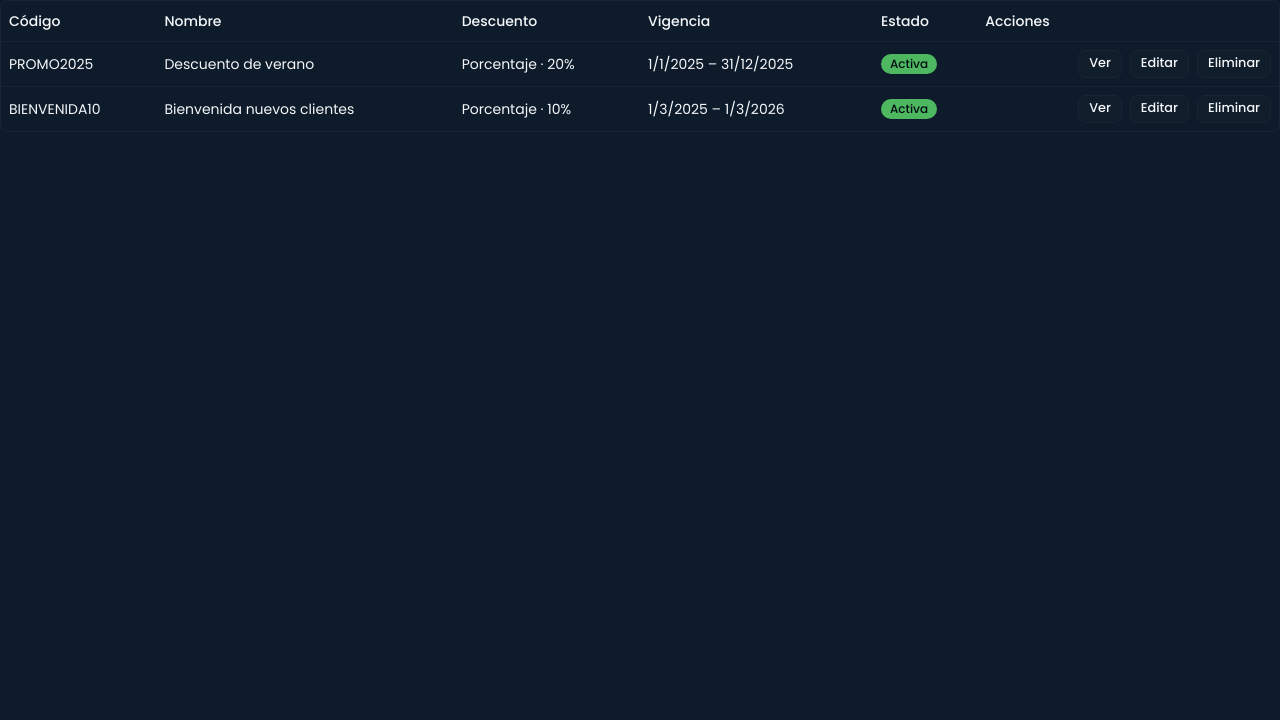
Test: PromotionsTable › cierra el diálogo de confirmación al desactivar una promoción
The image size is (1280, 720).
Check: the text "PROMO2025" is shown, box [1, 41, 156, 86]
Check: the row that starts with "PROMO2025" is shown, box [1, 41, 1279, 86]
Step 1. Click the button "Eliminar" in the row of "PROMO2025" → (1234,64), box [1197, 50, 1271, 78]
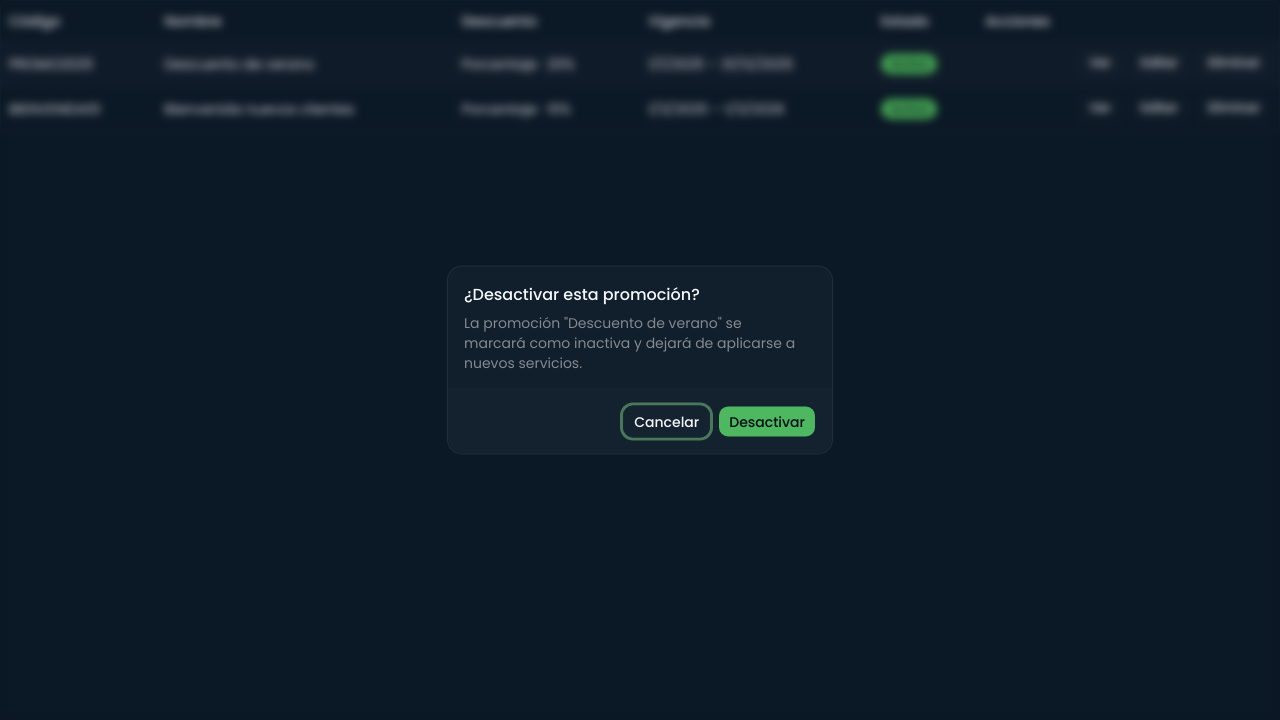
Check: the heading "¿Desactivar esta promoción?" is shown, box [464, 282, 700, 306]
Step 2. Click the button "Desactivar" → (767,422), box [718, 406, 816, 438]
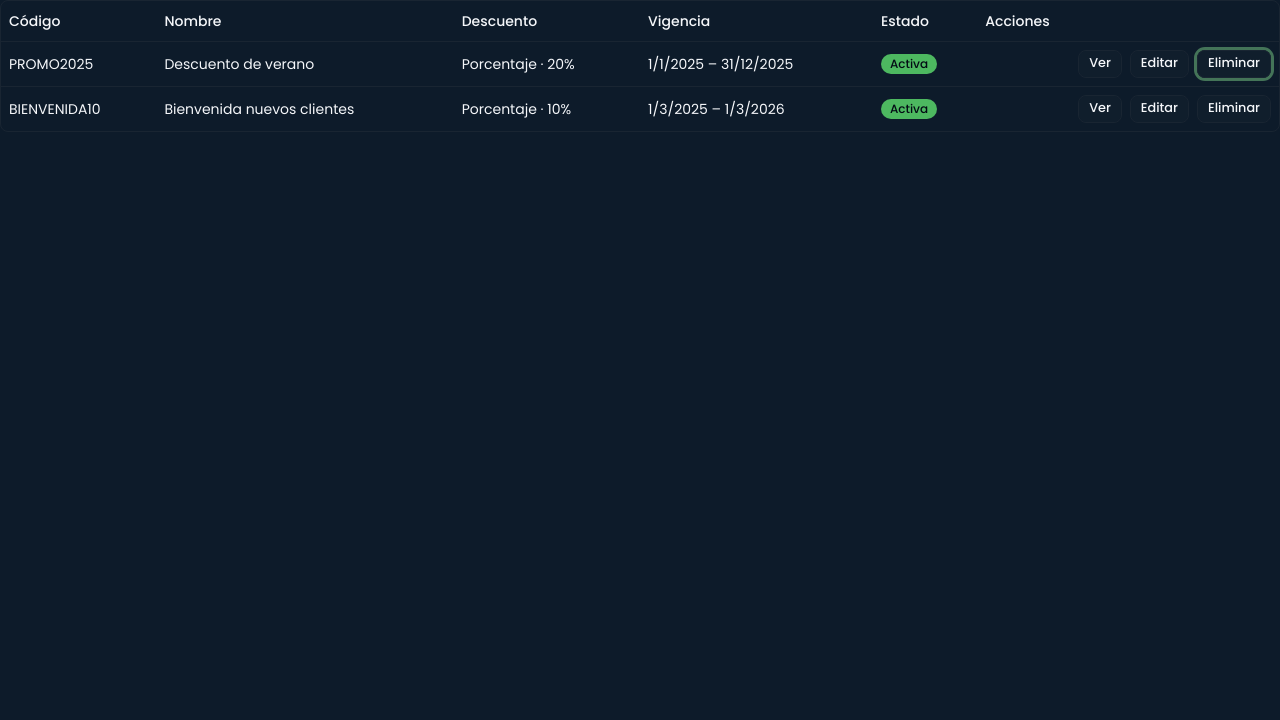
Check: the heading "¿Desactivar esta promoción?" is gone
